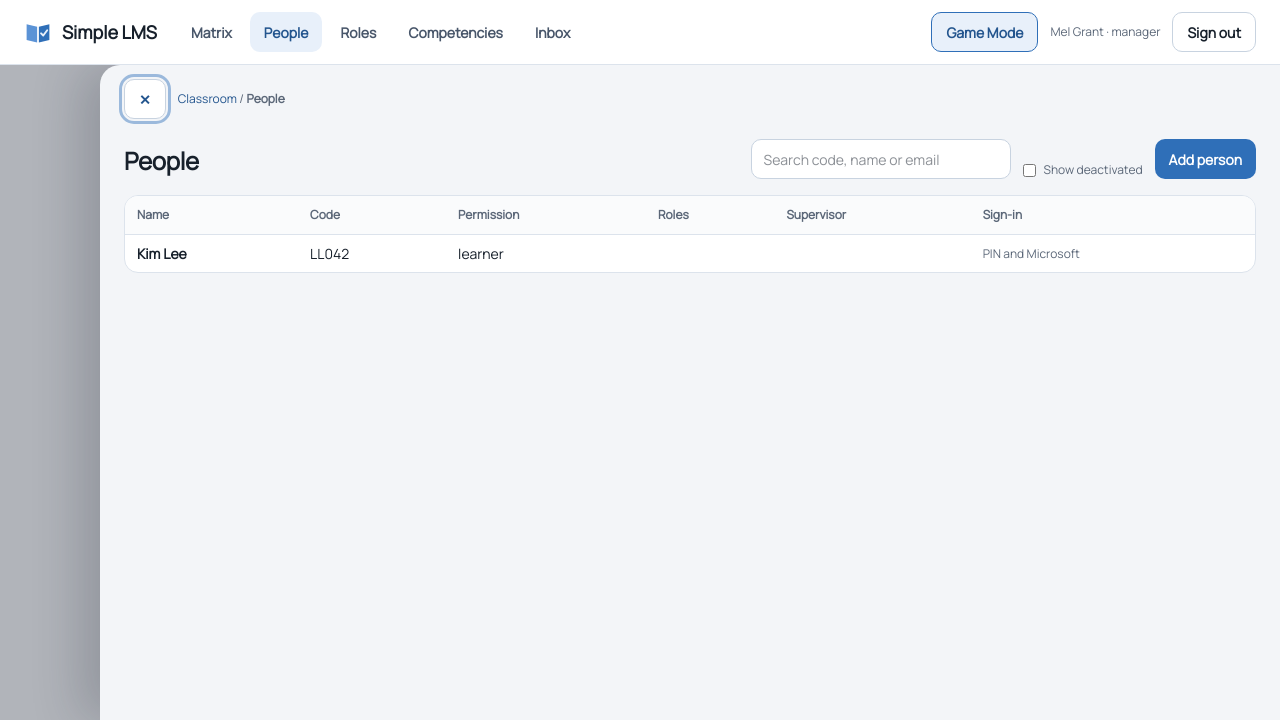
Test case: a person who signs in with Microsoft › shows it, and a manager can unlink it
Expected: the cell "PIN and Microsoft" is shown, [971,235,1255,272]
Click the button "Kim Lee": (162, 254) [137,243,187,264]
(page scrolled)
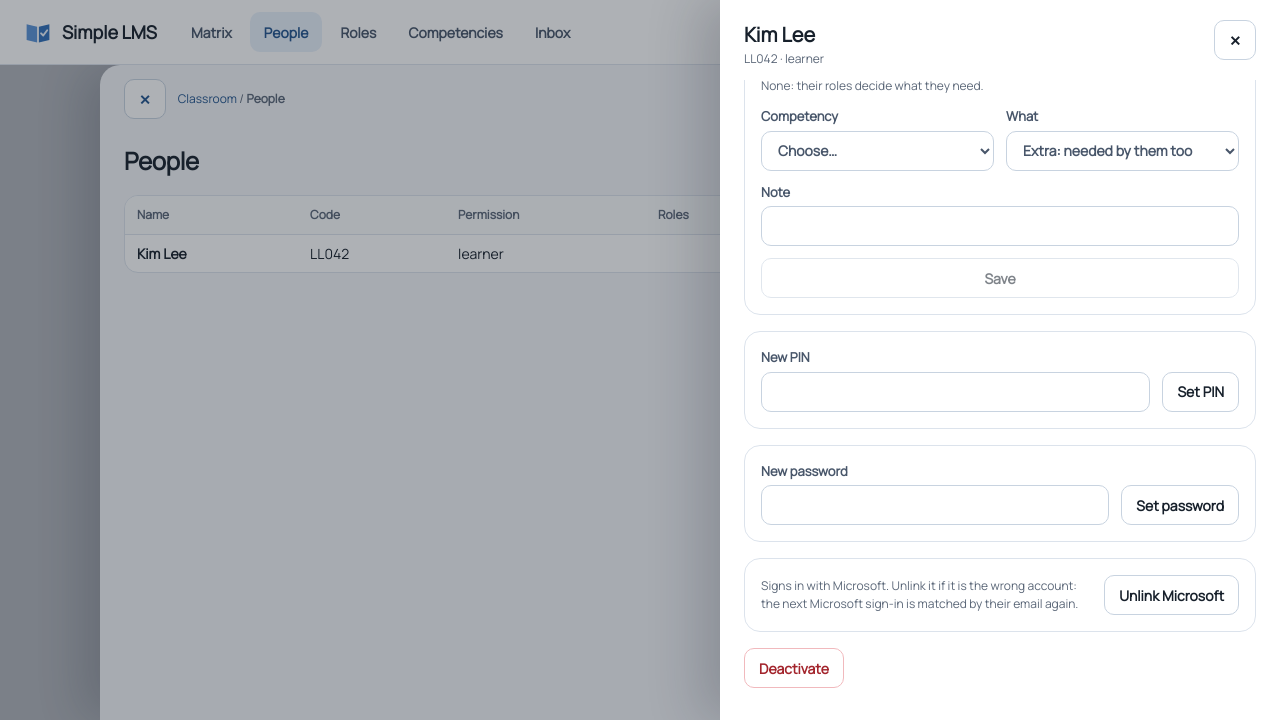
Click the button "Unlink Microsoft": (1172, 595) [1104,575,1239,615]
(page scrolled)
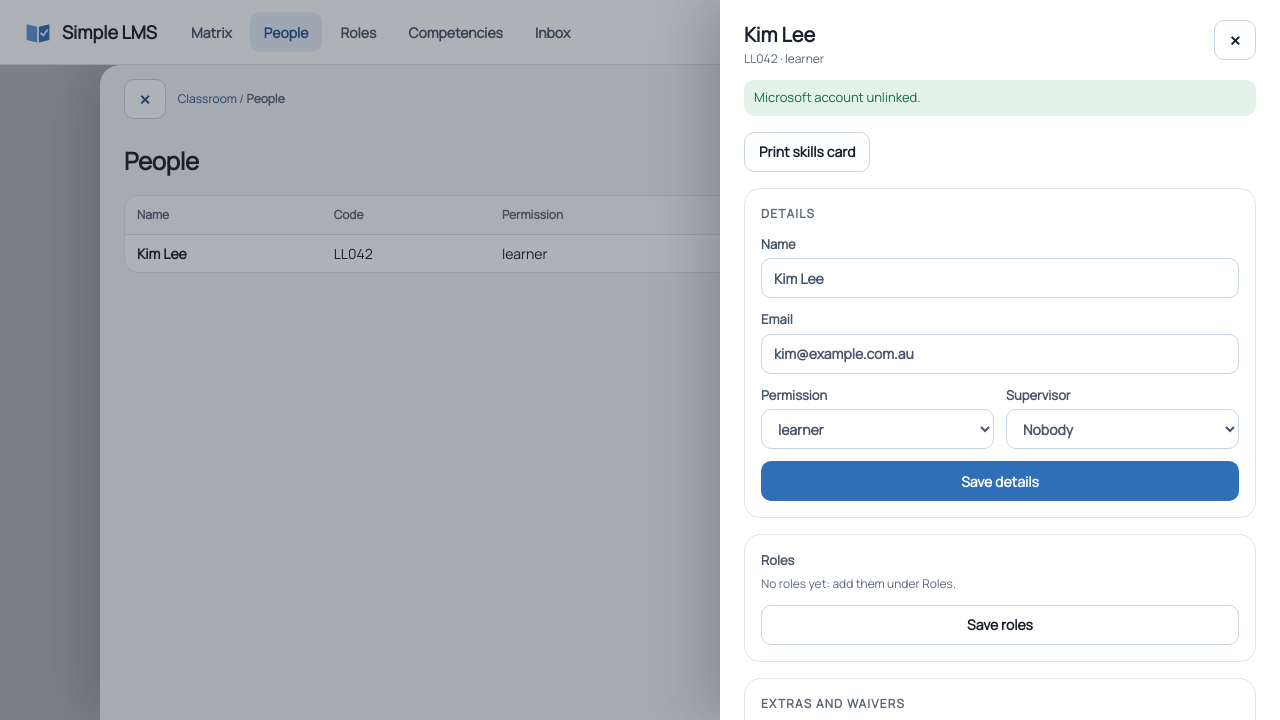
Expected: the text "Microsoft account unlinked." is shown, [744,80,1256,116]
Expected: the button "Unlink Microsoft" is gone
